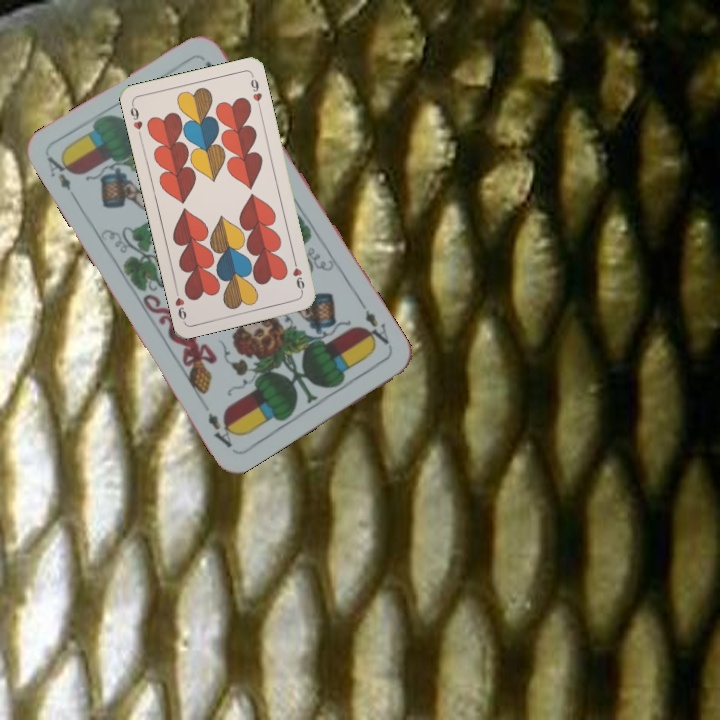EA: (43, 150, 81, 205), (357, 299, 392, 352)
H9: (126, 99, 145, 140), (289, 255, 307, 295)
